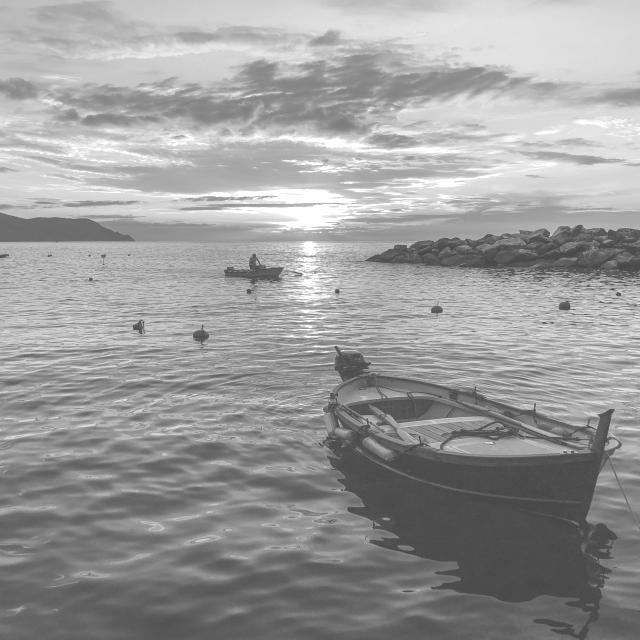ship: (315, 348, 640, 506)
